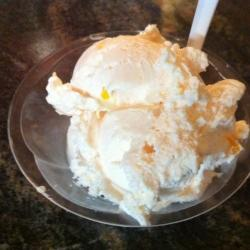icecream: (67, 34, 223, 196)
